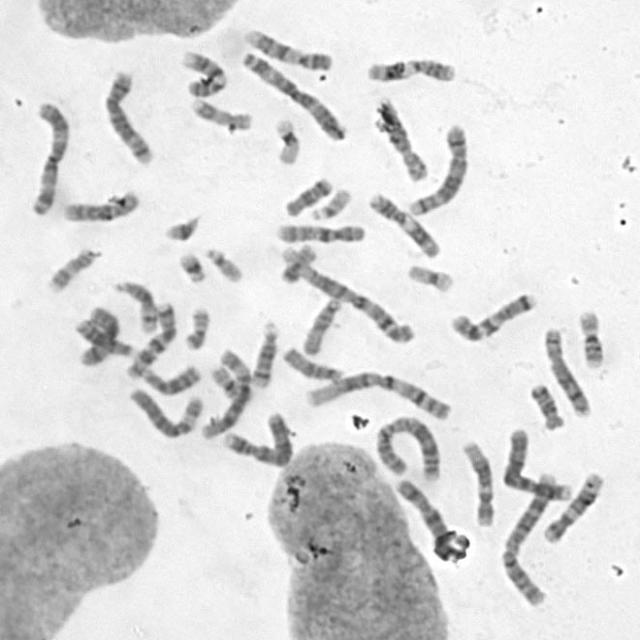A1: (276, 241, 418, 345), (302, 365, 454, 423)
A2: (498, 468, 564, 607), (371, 410, 445, 483)
A3: (236, 44, 348, 142), (25, 96, 72, 216)
B4: (497, 422, 573, 504), (217, 406, 296, 468)
B5: (404, 119, 471, 218), (100, 66, 157, 166)
C10: (56, 188, 141, 226), (272, 218, 368, 245)
C11: (363, 187, 442, 260), (362, 52, 459, 84)
C12: (539, 466, 607, 545), (458, 436, 498, 528)
C6: (196, 344, 254, 441), (125, 383, 207, 440)
C7: (446, 287, 539, 343), (122, 298, 178, 380)
C8: (372, 93, 432, 183), (540, 323, 595, 418)
C9: (240, 24, 334, 72), (176, 45, 229, 98)
D13: (70, 314, 138, 359), (136, 359, 202, 396)
D14: (109, 276, 160, 334), (246, 315, 282, 390)
D15: (299, 293, 344, 357), (279, 342, 345, 383)
E16: (574, 304, 608, 370), (210, 365, 251, 407)
E17: (43, 242, 101, 294), (186, 92, 254, 132)
E18: (280, 172, 336, 218), (526, 378, 567, 431)
F19: (402, 258, 457, 294), (270, 113, 304, 167)
F20: (275, 240, 318, 285), (180, 301, 212, 352)
G21: (160, 209, 203, 243), (174, 247, 208, 284)
G22: (306, 183, 355, 221), (201, 242, 245, 284)
X: (392, 474, 459, 561), (76, 301, 121, 368)
